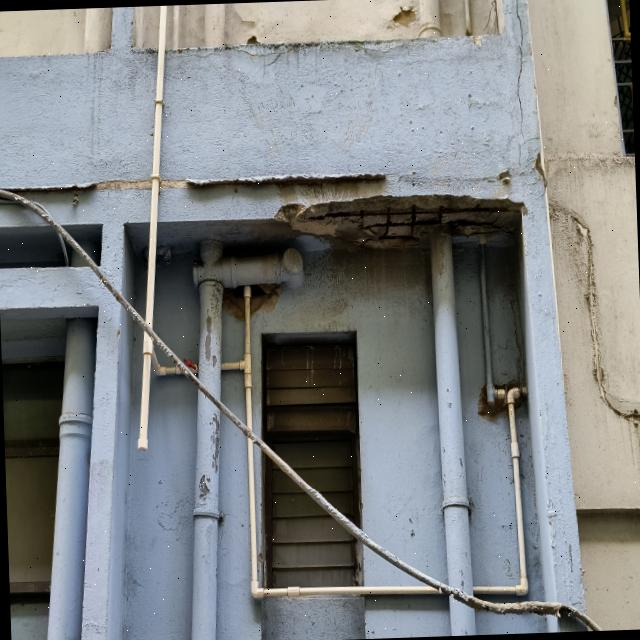Crack: (513, 0, 539, 167)
Paint Peeling: (508, 285, 527, 381), (381, 0, 423, 33), (208, 415, 220, 474), (204, 314, 216, 368), (198, 472, 212, 506)
Scaling: (222, 283, 281, 318)
Spalling: (298, 197, 524, 256)
pollution -moisture induced blackening: (168, 36, 417, 61)
